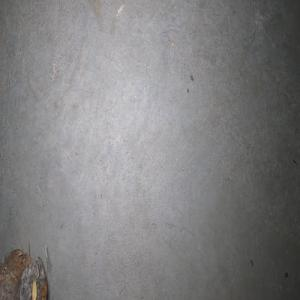Rock: (0, 241, 48, 300)
